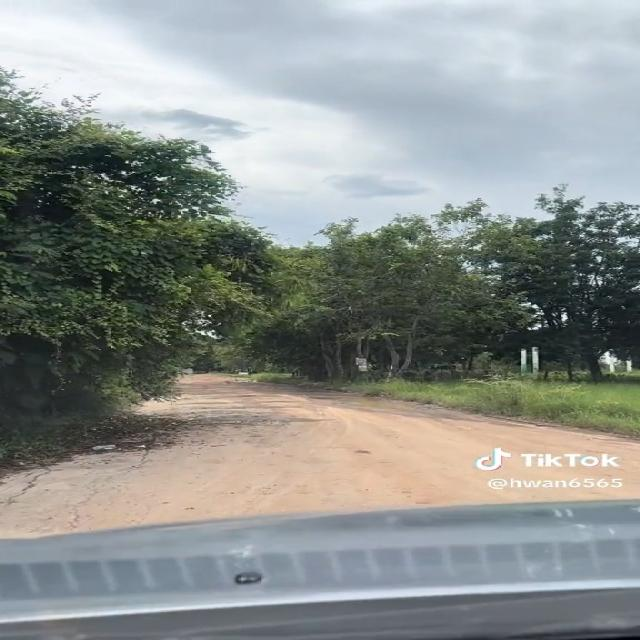Poth-hole: (50, 469, 166, 522)
